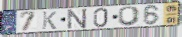0: (92, 7, 110, 28)
6: (143, 4, 163, 26)
7: (19, 11, 38, 33)
K: (41, 10, 58, 30)
N: (67, 7, 89, 30)
O: (117, 6, 142, 27)
